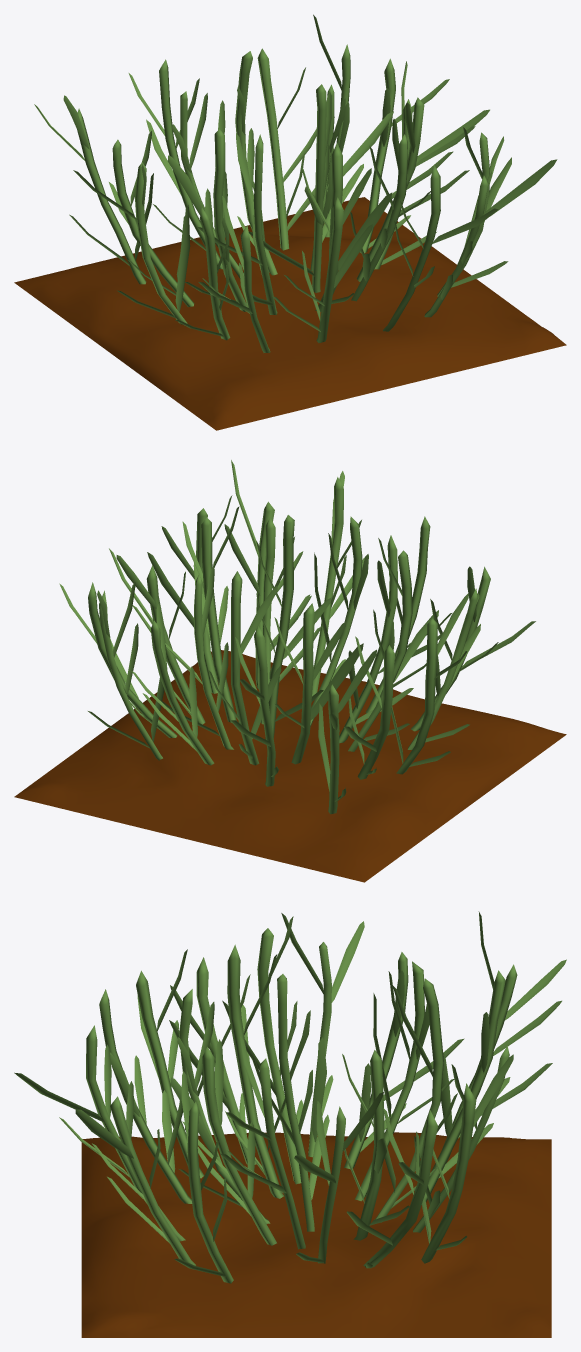
The model's file is lavender-p1-leaf.glb.
The picture shows the model from 3 angles, top to bottom: view 1: azimuth 30°, elevation 25°; view 2: azimuth 150°, elevation 25°; view 3: azimuth 270°, elevation 25°; orthographic projection. The views are drawn at different scales.
Parts seen in each view (by area): view 1: 1_nft_out_of_bloom; view 2: 1_nft_out_of_bloom; view 3: 1_nft_out_of_bloom.
Part boxes in pixels (box(x1,y1,x2,y2)): 1_nft_out_of_bloom: box(14, 14, 566, 430); 1_nft_out_of_bloom: box(14, 460, 566, 882); 1_nft_out_of_bloom: box(14, 911, 566, 1337).
Bounding box in the file's own units: 0.7846 × 0.4581 × 0.8235.
